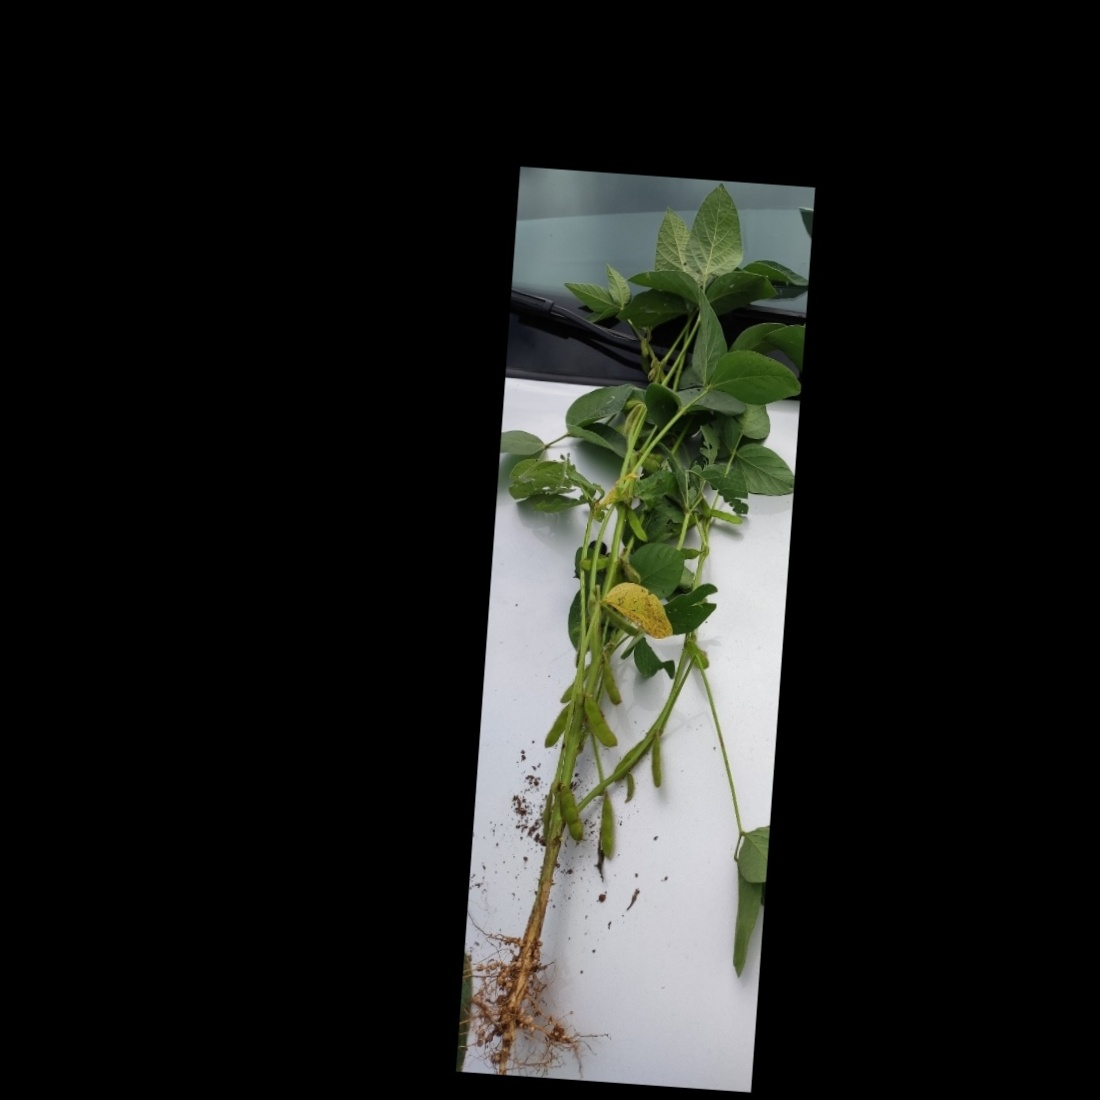pod: (578, 691, 624, 750), (593, 781, 622, 864), (556, 786, 589, 843), (642, 732, 669, 793), (539, 696, 569, 750), (596, 655, 626, 709), (620, 501, 652, 543), (705, 508, 750, 527), (621, 771, 639, 807)
soy: (468, 177, 787, 1051)
